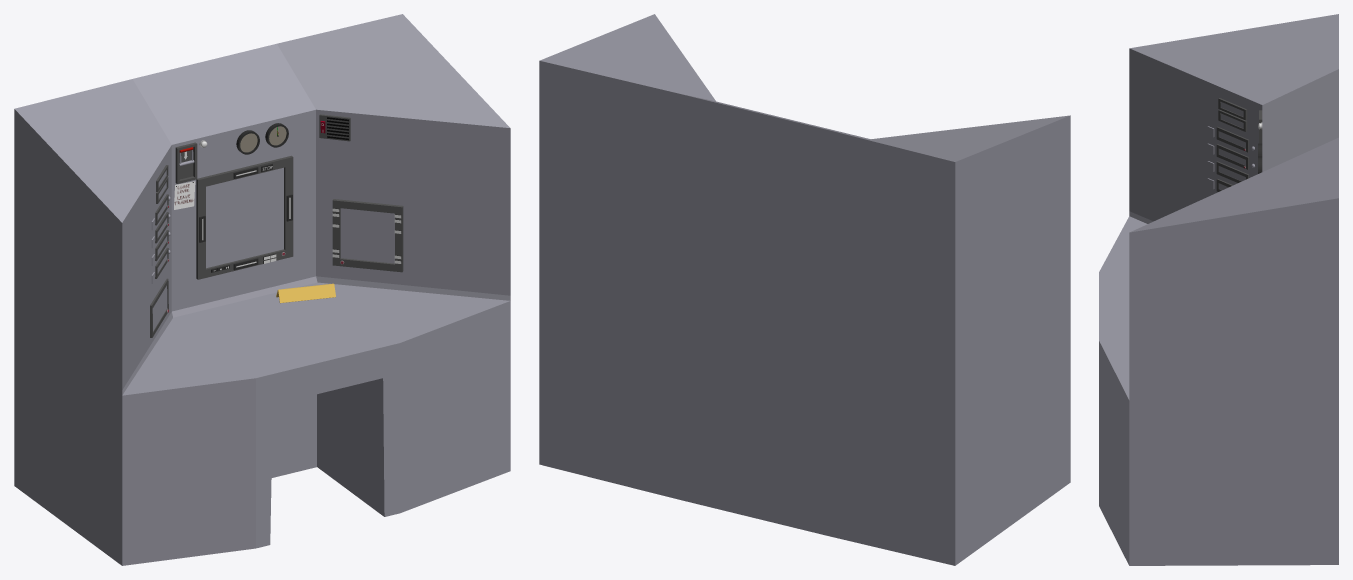
The model's file is Console.glb.
3 views of the same model, side by side, from view 1: azimuth 30°, elevation 25°; view 2: azimuth 150°, elevation 25°; view 3: azimuth 270°, elevation 25° (orthographic). The views are drawn at different scales.
Parts seen in each view (by area): view 1: base_console, MainScreen, frame_screen_main, RightScreen, RightScreenFrame, name_plate, Frame; view 2: base_console; view 3: base_console, NameFrame1, NameFrame2.
Part boxes in pixels (box(x1,y1,x2,y2)): base_console: box(14, 14, 510, 565); MainScreen: box(206, 167, 283, 268); frame_screen_main: box(196, 155, 293, 279); RightScreen: box(340, 208, 394, 263); RightScreenFrame: box(332, 199, 403, 272); name_plate: box(276, 283, 335, 303); Frame: box(175, 142, 197, 183); base_console: box(539, 14, 1070, 565); base_console: box(1099, 14, 1338, 565); NameFrame1: box(1216, 126, 1249, 152); NameFrame2: box(1216, 144, 1249, 169).
Size of the model in its own units: 3.19 by 2.98 by 1.75.
Materials: 18 (1 with a texture image).
